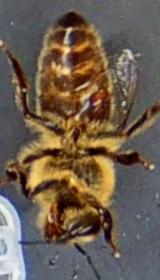varroa_mite: (85, 90, 108, 112)
